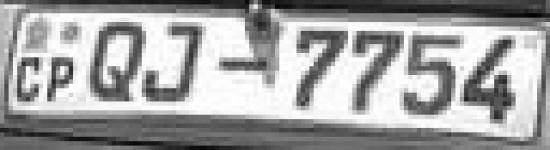-: (217, 52, 271, 79)
4: (464, 27, 528, 131)
5: (406, 24, 465, 122)
7: (350, 23, 407, 118), (290, 23, 349, 114)
C: (13, 54, 43, 106)
J: (142, 17, 210, 109)
P: (44, 54, 78, 106)
Q: (85, 17, 146, 104)
